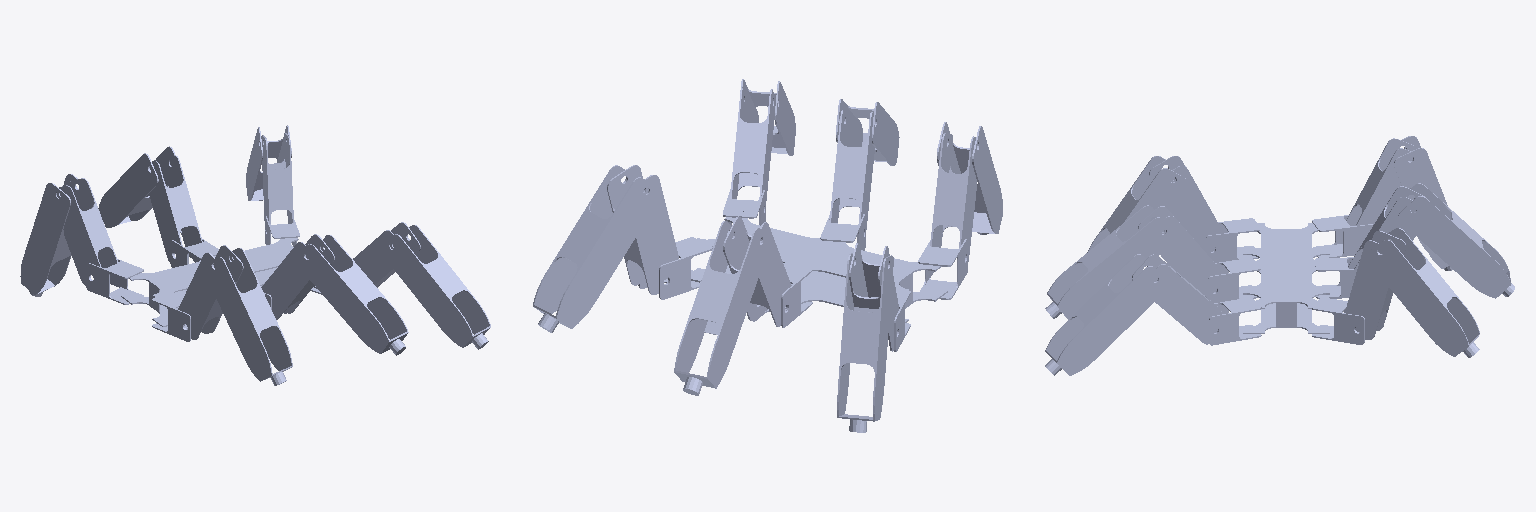
--- Render facts (derived) ---
Views: 3 orthographic renders of the robot side by side, from view 1: azimuth 30°, elevation 25°; view 2: azimuth 150°, elevation 25°; view 3: azimuth 270°, elevation 25°.
Robot: AntBot_gazebo6 — 19 links, 18 joints (18 continuous); root link base_link; default pose: every joint at zero.
Links seen in each view (by area): view 1: link3_4, link3_5, link3_6, link3_1, link2_1, link2_2, base_link, link3_2, link2_6, link2_5, link2_3, link2_4 (+5 smaller); view 2: link3_3, link3_2, base_link, link3_1, link2_3, link2_6, link2_5, link2_2, link2_4, link3_6, link3_5, link2_1 (+7 smaller); view 3: base_link, link3_4, link3_3, link3_2, link3_5, link2_4, link2_3, link3_6, link2_1, link2_5, link2_6, link3_1 (+7 smaller).
Boxes of the visible links, x1,y1,x2,y2 form: link3_4: (381, 225, 490, 349); link3_5: (297, 235, 408, 355); link3_6: (203, 248, 292, 385); link3_1: (20, 174, 78, 296); link2_1: (57, 178, 118, 285); link2_2: (149, 155, 202, 261); base_link: (121, 233, 316, 326); link3_2: (98, 146, 174, 227); link2_6: (178, 245, 243, 339); link2_5: (261, 234, 334, 319); link2_3: (261, 133, 293, 223); link2_4: (353, 222, 420, 287); link3_3: (533, 165, 660, 332); link3_2: (674, 221, 769, 395); base_link: (691, 211, 947, 322); link3_1: (837, 253, 893, 432); link2_3: (607, 165, 678, 294); link2_6: (930, 133, 977, 261); link2_5: (829, 110, 874, 229); link2_2: (723, 216, 791, 326); link2_4: (730, 88, 775, 200); link3_6: (937, 122, 1002, 234); link3_5: (836, 99, 899, 165); link2_1: (849, 243, 898, 351); base_link: (1243, 223, 1329, 333); link3_4: (1045, 254, 1168, 375); link3_3: (1366, 228, 1479, 357); link3_2: (1398, 183, 1514, 298); link3_5: (1045, 205, 1175, 319); link2_4: (1132, 254, 1223, 344); link2_3: (1345, 231, 1405, 339); link3_6: (1087, 156, 1188, 252); link2_1: (1346, 138, 1417, 225); link2_5: (1138, 206, 1223, 297); link2_6: (1149, 156, 1223, 251); link3_1: (1394, 136, 1452, 270).
Bounding box of the posed robot: 0.4721 × 0.6545 × 0.2186 m (x, y, z).
19 mesh visuals loaded from 19 distinct referenced files (19 binary STL).

robot.urdf — AntBot_gazebo6:
<?xml version="1.0" encoding="utf-8"?>
<!-- This URDF was automatically created by SolidWorks to URDF Exporter! Originally created by Stephen Brawner ([email redacted]) 
     Commit Version: 1.6.0-4-g7f85cfe  Build Version: 1.6.7995.38578
     For more information, please see http://wiki.ros.org/sw_urdf_exporter -->
<robot
  name="AntBot_gazebo6">
  <link
    name="base_link">
    <inertial>
      <origin
        xyz="-4.69255089038809E-16 0.02 4.23678710957959E-17"
        rpy="0 0 0" />
      <mass
        value="0.0905244257124354" />
      <inertia
        ixx="6.86803499169063E-05"
        ixy="2.59382257463825E-20"
        ixz="-4.33080749459797E-19"
        iyy="0.000664852566264196"
        iyz="-4.27534265576862E-20"
        izz="0.000600025527294775" />
    </inertial>
    <visual>
      <origin
        xyz="0 0 0"
        rpy="0 0 0" />
      <geometry>
        <mesh
          filename="package://AntBot_gazebo6/meshes/base_link.STL" />
      </geometry>
      <material
        name="">
        <color
          rgba="0.792156862745098 0.819607843137255 0.933333333333333 1" />
      </material>
    </visual>
    <collision>
      <origin
        xyz="0 0 0"
        rpy="0 0 0" />
      <geometry>
        <mesh
          filename="package://AntBot_gazebo6/meshes/base_link.STL" />
      </geometry>
    </collision>
  </link>
  <link
    name="link1_1">
    <inertial>
      <origin
        xyz="0.0308791710886825 0.02 1.38777878078145E-17"
        rpy="0 0 0" />
      <mass
        value="0.014331681469282" />
      <inertia
        ixx="7.88611739477641E-06"
        ixy="1.03034324098567E-21"
        ixz="8.68208770935658E-21"
        iyy="1.01190013654868E-05"
        iyz="3.54404523147118E-22"
        izz="1.07143252613195E-05" />
    </inertial>
    <visual>
      <origin
        xyz="0 0 0"
        rpy="0 0 0" />
      <geometry>
        <mesh
          filename="package://AntBot_gazebo6/meshes/link1_1.STL" />
      </geometry>
      <material
        name="">
        <color
          rgba="0.792156862745098 0.819607843137255 0.933333333333333 1" />
      </material>
    </visual>
    <collision>
      <origin
        xyz="0 0 0"
        rpy="0 0 0" />
      <geometry>
        <mesh
          filename="package://AntBot_gazebo6/meshes/link1_1.STL" />
      </geometry>
    </collision>
  </link>
  <joint
    name="joint1_1"
    type="continuous">
    <origin
      xyz="-0.13 0.0500000000000001 0"
      rpy="1.5707963267949 0 1.86719767220728" />
    <parent
      link="base_link" />
    <child
      link="link1_1" />
    <axis
      xyz="0 1 0" />
  </joint>
  <link
    name="link2_1">
    <inertial>
      <origin
        xyz="0.0650000000000001 -1.80411241501588E-16 2.77555756156289E-17"
        rpy="0 0 0" />
      <mass
        value="0.0370516814692824" />
      <inertia
        ixx="1.98115290822747E-05"
        ixy="-1.86347248395946E-20"
        ixz="-2.87991202066462E-20"
        iyy="6.51251299513037E-05"
        iyz="1.52465930505774E-20"
        izz="6.35545981373094E-05" />
    </inertial>
    <visual>
      <origin
        xyz="0 0 0"
        rpy="0 0 0" />
      <geometry>
        <mesh
          filename="package://AntBot_gazebo6/meshes/link2_1.STL" />
      </geometry>
      <material
        name="">
        <color
          rgba="0.792156862745098 0.819607843137255 0.933333333333333 1" />
      </material>
    </visual>
    <collision>
      <origin
        xyz="0 0 0"
        rpy="0 0 0" />
      <geometry>
        <mesh
          filename="package://AntBot_gazebo6/meshes/link2_1.STL" />
      </geometry>
    </collision>
  </link>
  <joint
    name="joint2_1"
    type="continuous">
    <origin
      xyz="0.06 0.0199999999999995 0"
      rpy="-1.5707963267949 0 1.07374229810807" />
    <parent
      link="link1_1" />
    <child
      link="link2_1" />
    <axis
      xyz="0 1 0" />
  </joint>
  <link
    name="link3_1">
    <inertial>
      <origin
        xyz="0.0972816659999791 -0.00201423877835671 -1.92347469156751E-05"
        rpy="0 0 0" />
      <mass
        value="0.053553541421993" />
      <inertia
        ixx="3.12509660400559E-05"
        ixy="1.45403850948269E-08"
        ixz="1.95222570272094E-08"
        iyy="0.000182828959162678"
        iyz="1.83155553633493E-08"
        izz="0.00018741341231047" />
    </inertial>
    <visual>
      <origin
        xyz="0 0 0"
        rpy="0 0 0" />
      <geometry>
        <mesh
          filename="package://AntBot_gazebo6/meshes/link3_1.STL" />
      </geometry>
      <material
        name="">
        <color
          rgba="0.792156862745098 0.819607843137255 0.933333333333333 1" />
      </material>
    </visual>
    <collision>
      <origin
        xyz="0 0 0"
        rpy="0 0 0" />
      <geometry>
        <mesh
          filename="package://AntBot_gazebo6/meshes/link3_1.STL" />
      </geometry>
    </collision>
  </link>
  <joint
    name="joint3_1"
    type="continuous">
    <origin
      xyz="0.130000000000001 0 0"
      rpy="0 0.83615820421709 3.14159265358979" />
    <parent
      link="link2_1" />
    <child
      link="link3_1" />
    <axis
      xyz="0 1 0" />
  </joint>
  <link
    name="link1_2">
    <inertial>
      <origin
        xyz="0.0308791710886826 0.02 -1.66099772824779E-16"
        rpy="0 0 0" />
      <mass
        value="0.0143316814692821" />
      <inertia
        ixx="7.88611739477643E-06"
        ixy="1.19561941673638E-23"
        ixz="1.33672386988569E-20"
        iyy="1.01190013654868E-05"
        iyz="2.0850672545437E-21"
        izz="1.07143252613196E-05" />
    </inertial>
    <visual>
      <origin
        xyz="0 0 0"
        rpy="0 0 0" />
      <geometry>
        <mesh
          filename="package://AntBot_gazebo6/meshes/link1_2.STL" />
      </geometry>
      <material
        name="">
        <color
          rgba="0.792156862745098 0.819607843137255 0.933333333333333 1" />
      </material>
    </visual>
    <collision>
      <origin
        xyz="0 0 0"
        rpy="0 0 0" />
      <geometry>
        <mesh
          filename="package://AntBot_gazebo6/meshes/link1_2.STL" />
      </geometry>
    </collision>
  </link>
  <joint
    name="joint1_2"
    type="continuous">
    <origin
      xyz="0 0.05 0"
      rpy="1.5707963267949 0 1.62821187318779" />
    <parent
      link="base_link" />
    <child
      link="link1_2" />
    <axis
      xyz="0 1 0" />
  </joint>
  <link
    name="link2_2">
    <inertial>
      <origin
        xyz="0.065 -9.32413868337534E-17 -4.16333634234434E-17"
        rpy="0 0 0" />
      <mass
        value="0.0370516814692824" />
      <inertia
        ixx="1.98115290822748E-05"
        ixy="-1.18584612615602E-20"
        ixz="4.2351647362715E-21"
        iyy="6.51251299513037E-05"
        iyz="-1.37642853928824E-20"
        izz="6.35545981373093E-05" />
    </inertial>
    <visual>
      <origin
        xyz="0 0 0"
        rpy="0 0 0" />
      <geometry>
        <mesh
          filename="package://AntBot_gazebo6/meshes/link2_2.STL" />
      </geometry>
      <material
        name="">
        <color
          rgba="0.792156862745098 0.819607843137255 0.933333333333333 1" />
      </material>
    </visual>
    <collision>
      <origin
        xyz="0 0 0"
        rpy="0 0 0" />
      <geometry>
        <mesh
          filename="package://AntBot_gazebo6/meshes/link2_2.STL" />
      </geometry>
    </collision>
  </link>
  <joint
    name="joint2_2"
    type="continuous">
    <origin
      xyz="0.0600000000000001 0.0200000000000001 0"
      rpy="-1.57079632679489 0 1.04861361222807" />
    <parent
      link="link1_2" />
    <child
      link="link2_2" />
    <axis
      xyz="0 1 0" />
  </joint>
  <link
    name="link3_2">
    <inertial>
      <origin
        xyz="0.0972816659999791 0.00198576122164296 -1.92347469157028E-05"
        rpy="0 0 0" />
      <mass
        value="0.0535535414219932" />
      <inertia
        ixx="3.1250966040056E-05"
        ixy="1.45403850948474E-08"
        ixz="1.95222570272932E-08"
        iyy="0.000182828959162678"
        iyz="1.83155553632828E-08"
        izz="0.00018741341231047" />
    </inertial>
    <visual>
      <origin
        xyz="0 0 0"
        rpy="0 0 0" />
      <geometry>
        <mesh
          filename="package://AntBot_gazebo6/meshes/link3_2.STL" />
      </geometry>
      <material
        name="">
        <color
          rgba="0.792156862745098 0.819607843137255 0.933333333333333 1" />
      </material>
    </visual>
    <collision>
      <origin
        xyz="0 0 0"
        rpy="0 0 0" />
      <geometry>
        <mesh
          filename="package://AntBot_gazebo6/meshes/link3_2.STL" />
      </geometry>
    </collision>
  </link>
  <joint
    name="joint3_2"
    type="continuous">
    <origin
      xyz="0.13 0 0"
      rpy="0 1.29810431134274 -3.14159265358979" />
    <parent
      link="link2_2" />
    <child
      link="link3_2" />
    <axis
      xyz="0 1 0" />
  </joint>
  <link
    name="link1_3">
    <inertial>
      <origin
        xyz="0.0308791710886826 0.02 8.32667268468867E-17"
        rpy="0 0 0" />
      <mass
        value="0.0143316814692821" />
      <inertia
        ixx="7.88611739477644E-06"
        ixy="-4.30839072027947E-21"
        ixz="-7.83505476210228E-21"
        iyy="1.01190013654869E-05"
        iyz="2.43118527462852E-21"
        izz="1.07143252613196E-05" />
    </inertial>
    <visual>
      <origin
        xyz="0 0 0"
        rpy="0 0 0" />
      <geometry>
        <mesh
          filename="package://AntBot_gazebo6/meshes/link1_3.STL" />
      </geometry>
      <material
        name="">
        <color
          rgba="0.792156862745098 0.819607843137255 0.933333333333333 1" />
      </material>
    </visual>
    <collision>
      <origin
        xyz="0 0 0"
        rpy="0 0 0" />
      <geometry>
        <mesh
          filename="package://AntBot_gazebo6/meshes/link1_3.STL" />
      </geometry>
    </collision>
  </link>
  <joint
    name="joint1_3"
    type="continuous">
    <origin
      xyz="0.13 0.0500000000000001 0"
      rpy="1.5707963267949 0 1.2009693438459" />
    <parent
      link="base_link" />
    <child
      link="link1_3" />
    <axis
      xyz="0 1 0" />
  </joint>
  <link
    name="link2_3">
    <inertial>
      <origin
        xyz="0.065 -1.2490009027033E-16 -2.77555756156289E-17"
        rpy="0 0 0" />
      <mass
        value="0.0370516814692825" />
      <inertia
        ixx="1.98115290822748E-05"
        ixy="1.00585162486448E-20"
        ixz="-7.83505476210228E-20"
        iyy="6.51251299513039E-05"
        iyz="-8.470329472543E-21"
        izz="6.35545981373095E-05" />
    </inertial>
    <visual>
      <origin
        xyz="0 0 0"
        rpy="0 0 0" />
      <geometry>
        <mesh
          filename="package://AntBot_gazebo6/meshes/link2_3.STL" />
      </geometry>
      <material
        name="">
        <color
          rgba="0.792156862745098 0.819607843137255 0.933333333333333 1" />
      </material>
    </visual>
    <collision>
      <origin
        xyz="0 0 0"
        rpy="0 0 0" />
      <geometry>
        <mesh
          filename="package://AntBot_gazebo6/meshes/link2_3.STL" />
      </geometry>
    </collision>
  </link>
  <joint
    name="joint2_3"
    type="continuous">
    <origin
      xyz="0.0600000000000001 0.0200000000000001 0"
      rpy="-1.5707963267949 0 1.30801953046159" />
    <parent
      link="link1_3" />
    <child
      link="link2_3" />
    <axis
      xyz="0 1 0" />
  </joint>
  <link
    name="link3_3">
    <inertial>
      <origin
        xyz="0.097281665999979 -0.00201423877835681 -1.92347469157028E-05"
        rpy="0 0 0" />
      <mass
        value="0.0535535414219932" />
      <inertia
        ixx="3.1250966040056E-05"
        ixy="1.45403850946711E-08"
        ixz="1.95222570272433E-08"
        iyy="0.000182828959162678"
        iyz="1.83155553633222E-08"
        izz="0.00018741341231047" />
    </inertial>
    <visual>
      <origin
        xyz="0 0 0"
        rpy="0 0 0" />
      <geometry>
        <mesh
          filename="package://AntBot_gazebo6/meshes/link3_3.STL" />
      </geometry>
      <material
        name="">
        <color
          rgba="0.792156862745098 0.819607843137255 0.933333333333333 1" />
      </material>
    </visual>
    <collision>
      <origin
        xyz="0 0 0"
        rpy="0 0 0" />
      <geometry>
        <mesh
          filename="package://AntBot_gazebo6/meshes/link3_3.STL" />
      </geometry>
    </collision>
  </link>
  <joint
    name="joint3_3"
    type="continuous">
    <origin
      xyz="0.13 0 0"
      rpy="0 1.00422815240069 3.14159265358979" />
    <parent
      link="link2_3" />
    <child
      link="link3_3" />
    <axis
      xyz="0 1 0" />
  </joint>
  <link
    name="link1_4">
    <inertial>
      <origin
        xyz="0.0308791710886825 0.02 -4.16333634234434E-17"
        rpy="0 0 0" />
      <mass
        value="0.0143316814692821" />
      <inertia
        ixx="7.88611739477642E-06"
        ixy="-3.24527731349121E-21"
        ixz="6.98802181484798E-21"
        iyy="1.01190013654868E-05"
        iyz="1.39030222051005E-21"
        izz="1.07143252613196E-05" />
    </inertial>
    <visual>
      <origin
        xyz="0 0 0"
        rpy="0 0 0" />
      <geometry>
        <mesh
          filename="package://AntBot_gazebo6/meshes/link1_4.STL" />
      </geometry>
      <material
        name="">
        <color
          rgba="0.792156862745098 0.819607843137255 0.933333333333333 1" />
      </material>
    </visual>
    <collision>
      <origin
        xyz="0 0 0"
        rpy="0 0 0" />
      <geometry>
        <mesh
          filename="package://AntBot_gazebo6/meshes/link1_4.STL" />
      </geometry>
    </collision>
  </link>
  <joint
    name="joint1_4"
    type="continuous">
    <origin
      xyz="0.13 -0.0500000000000001 0"
      rpy="1.5707963267949 0 -1.18250389611675" />
    <parent
      link="base_link" />
    <child
      link="link1_4" />
    <axis
      xyz="0 1 0" />
  </joint>
  <link
    name="link2_4">
    <inertial>
      <origin
        xyz="0.0649999999999999 2.77555756156289E-16 1.38777878078145E-17"
        rpy="0 0 0" />
      <mass
        value="0.0370516814692824" />
      <inertia
        ixx="1.98115290822748E-05"
        ixy="9.74087889342445E-21"
        ixz="-1.10114283143059E-20"
        iyy="6.51251299513037E-05"
        iyz="1.35525271560688E-20"
        izz="6.35545981373094E-05" />
    </inertial>
    <visual>
      <origin
        xyz="0 0 0"
        rpy="0 0 0" />
      <geometry>
        <mesh
          filename="package://AntBot_gazebo6/meshes/link2_4.STL" />
      </geometry>
      <material
        name="">
        <color
          rgba="0.792156862745098 0.819607843137255 0.933333333333333 1" />
      </material>
    </visual>
    <collision>
      <origin
        xyz="0 0 0"
        rpy="0 0 0" />
      <geometry>
        <mesh
          filename="package://AntBot_gazebo6/meshes/link2_4.STL" />
      </geometry>
    </collision>
  </link>
  <joint
    name="joint2_4"
    type="continuous">
    <origin
      xyz="0.0600000000000007 0.0200000000000003 0"
      rpy="-1.5707963267949 0 0.807090789819721" />
    <parent
      link="link1_4" />
    <child
      link="link2_4" />
    <axis
      xyz="0 1 0" />
  </joint>
  <link
    name="link3_4">
    <inertial>
      <origin
        xyz="0.0972816659999789 0.0019857612216434 -1.92347469156751E-05"
        rpy="0 0 0" />
      <mass
        value="0.053553541421993" />
      <inertia
        ixx="3.12509660400558E-05"
        ixy="1.45403850950302E-08"
        ixz="1.95222570273619E-08"
        iyy="0.000182828959162678"
        iyz="1.83155553633018E-08"
        izz="0.00018741341231047" />
    </inertial>
    <visual>
      <origin
        xyz="0 0 0"
        rpy="0 0 0" />
      <geometry>
        <mesh
          filename="package://AntBot_gazebo6/meshes/link3_4.STL" />
      </geometry>
      <material
        name="">
        <color
          rgba="0.792156862745098 0.819607843137255 0.933333333333333 1" />
      </material>
    </visual>
    <collision>
      <origin
        xyz="0 0 0"
        rpy="0 0 0" />
      <geometry>
        <mesh
          filename="package://AntBot_gazebo6/meshes/link3_4.STL" />
      </geometry>
    </collision>
  </link>
  <joint
    name="joint3_4"
    type="continuous">
    <origin
      xyz="0.130000000000001 0 0"
      rpy="3.14159265358979 1.49108871563036 0" />
    <parent
      link="link2_4" />
    <child
      link="link3_4" />
    <axis
      xyz="0 1 0" />
  </joint>
  <link
    name="link1_5">
    <inertial>
      <origin
        xyz="0.0308791710886826 0.02 -3.46944695195361E-18"
        rpy="0 0 0" />
      <mass
        value="0.014331681469282" />
      <inertia
        ixx="7.88611739477641E-06"
        ixy="-1.33463358368285E-21"
        ixz="3.81164826264435E-21"
        iyy="1.01190013654868E-05"
        iyz="1.68438634434383E-24"
        izz="1.07143252613195E-05" />
    </inertial>
    <visual>
      <origin
        xyz="0 0 0"
        rpy="0 0 0" />
      <geometry>
        <mesh
          filename="package://AntBot_gazebo6/meshes/link1_5.STL" />
      </geometry>
      <material
        name="">
        <color
          rgba="0.792156862745098 0.819607843137255 0.933333333333333 1" />
      </material>
    </visual>
    <collision>
      <origin
        xyz="0 0 0"
        rpy="0 0 0" />
      <geometry>
        <mesh
          filename="package://AntBot_gazebo6/meshes/link1_5.STL" />
      </geometry>
    </collision>
  </link>
  <joint
    name="joint1_5"
    type="continuous">
    <origin
      xyz="0 -0.05 0"
      rpy="1.5707963267949 0 -1.22050847566366" />
    <parent
      link="base_link" />
    <child
      link="link1_5" />
    <axis
      xyz="0 1 0" />
  </joint>
  <link
    name="link2_5">
    <inertial>
      <origin
        xyz="0.065 -4.16333634234434E-17 -5.55111512312578E-17"
        rpy="0 0 0" />
      <mass
        value="0.0370516814692824" />
      <inertia
        ixx="1.98115290822748E-05"
        ixy="-1.86347248395946E-20"
        ixz="2.45639554703747E-20"
        iyy="6.51251299513038E-05"
        iyz="3.3881317890172E-21"
        izz="6.35545981373095E-05" />
    </inertial>
    <visual>
      <origin
        xyz="0 0 0"
        rpy="0 0 0" />
      <geometry>
        <mesh
          filename="package://AntBot_gazebo6/meshes/link2_5.STL" />
      </geometry>
      <material
        name="">
        <color
          rgba="0.792156862745098 0.819607843137255 0.933333333333333 1" />
      </material>
    </visual>
    <collision>
      <origin
        xyz="0 0 0"
        rpy="0 0 0" />
      <geometry>
        <mesh
          filename="package://AntBot_gazebo6/meshes/link2_5.STL" />
      </geometry>
    </collision>
  </link>
  <joint
    name="joint2_5"
    type="continuous">
    <origin
      xyz="0.06 0.02 0"
      rpy="-1.5707963267949 0 0.932805214501696" />
    <parent
      link="link1_5" />
    <child
      link="link2_5" />
    <axis
      xyz="0 1 0" />
  </joint>
  <link
    name="link3_5">
    <inertial>
      <origin
        xyz="0.0972816659999791 -0.00201423877835683 -1.92347469156195E-05"
        rpy="0 0 0" />
      <mass
        value="0.0535535414219932" />
      <inertia
        ixx="3.1250966040056E-05"
        ixy="1.4540385094832E-08"
        ixz="1.95222570272475E-08"
        iyy="0.000182828959162678"
        iyz="1.83155553632646E-08"
        izz="0.00018741341231047" />
    </inertial>
    <visual>
      <origin
        xyz="0 0 0"
        rpy="0 0 0" />
      <geometry>
        <mesh
          filename="package://AntBot_gazebo6/meshes/link3_5.STL" />
      </geometry>
      <material
        name="">
        <color
          rgba="0.792156862745098 0.819607843137255 0.933333333333333 1" />
      </material>
    </visual>
    <collision>
      <origin
        xyz="0 0 0"
        rpy="0 0 0" />
      <geometry>
        <mesh
          filename="package://AntBot_gazebo6/meshes/link3_5.STL" />
      </geometry>
    </collision>
  </link>
  <joint
    name="joint3_5"
    type="continuous">
    <origin
      xyz="0.13 0 0"
      rpy="-3.14159265358977 1.53498654104415 0" />
    <parent
      link="link2_5" />
    <child
      link="link3_5" />
    <axis
      xyz="0 1 0" />
  </joint>
  <link
    name="link1_6">
    <inertial>
      <origin
        xyz="0.0308791710886825 0.02 2.77555756156289E-17"
        rpy="0 0 0" />
      <mass
        value="0.014331681469282" />
      <inertia
        ixx="7.88611739477642E-06"
        ixy="-5.44718956664257E-21"
        ixz="1.48230765769503E-21"
        iyy="1.01190013654868E-05"
        iyz="2.18888895186693E-21"
        izz="1.07143252613195E-05" />
    </inertial>
    <visual>
      <origin
        xyz="0 0 0"
        rpy="0 0 0" />
      <geometry>
        <mesh
          filename="package://AntBot_gazebo6/meshes/link1_6.STL" />
      </geometry>
      <material
        name="">
        <color
          rgba="0.792156862745098 0.819607843137255 0.933333333333333 1" />
      </material>
    </visual>
    <collision>
      <origin
        xyz="0 0 0"
        rpy="0 0 0" />
      <geometry>
        <mesh
          filename="package://AntBot_gazebo6/meshes/link1_6.STL" />
      </geometry>
    </collision>
  </link>
  <joint
    name="joint1_6"
    type="continuous">
    <origin
      xyz="-0.13 -0.0500000000000003 0"
      rpy="1.5707963267949 0 -1.29582014475169" />
    <parent
      link="base_link" />
    <child
      link="link1_6" />
    <axis
      xyz="0 1 0" />
  </joint>
  <link
    name="link2_6">
    <inertial>
      <origin
        xyz="0.0649999999999999 -1.94289029309402E-16 2.08166817117217E-17"
        rpy="0 0 0" />
      <mass
        value="0.0370516814692824" />
      <inertia
        ixx="1.98115290822747E-05"
        ixy="-9.3173624197973E-21"
        ixz="-2.15993401549847E-20"
        iyy="6.51251299513036E-05"
        iyz="-6.7762635780344E-21"
        izz="6.35545981373092E-05" />
    </inertial>
    <visual>
      <origin
        xyz="0 0 0"
        rpy="0 0 0" />
      <geometry>
        <mesh
          filename="package://AntBot_gazebo6/meshes/link2_6.STL" />
      </geometry>
      <material
        name="">
        <color
          rgba="0.792156862745098 0.819607843137255 0.933333333333333 1" />
      </material>
    </visual>
    <collision>
      <origin
        xyz="0 0 0"
        rpy="0 0 0" />
      <geometry>
        <mesh
          filename="package://AntBot_gazebo6/meshes/link2_6.STL" />
      </geometry>
    </collision>
  </link>
  <joint
    name="joint2_6"
    type="continuous">
    <origin
      xyz="0.0599999999999999 0.0199999999999995 0"
      rpy="-1.5707963267949 0 1.10851502153348" />
    <parent
      link="link1_6" />
    <child
      link="link2_6" />
    <axis
      xyz="0 1 0" />
  </joint>
  <link
    name="link3_6">
    <inertial>
      <origin
        xyz="0.0972816659999789 -0.00201423877835669 -1.92347469156751E-05"
        rpy="0 0 0" />
      <mass
        value="0.053553541421993" />
      <inertia
        ixx="3.12509660400562E-05"
        ixy="1.45403850947994E-08"
        ixz="1.9522257027256E-08"
        iyy="0.000182828959162678"
        iyz="1.83155553633086E-08"
        izz="0.00018741341231047" />
    </inertial>
    <visual>
      <origin
        xyz="0 0 0"
        rpy="0 0 0" />
      <geometry>
        <mesh
          filename="package://AntBot_gazebo6/meshes/link3_6.STL" />
      </geometry>
      <material
        name="">
        <color
          rgba="0.792156862745098 0.819607843137255 0.933333333333333 1" />
      </material>
    </visual>
    <collision>
      <origin
        xyz="0 0 0"
        rpy="0 0 0" />
      <geometry>
        <mesh
          filename="package://AntBot_gazebo6/meshes/link3_6.STL" />
      </geometry>
    </collision>
  </link>
  <joint
    name="joint3_6"
    type="continuous">
    <origin
      xyz="0.130000000000001 0 0"
      rpy="0 1.08794189270748 3.14159265358979" />
    <parent
      link="link2_6" />
    <child
      link="link3_6" />
    <axis
      xyz="0 1 0" />
  </joint>
</robot>
